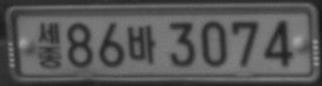0: (200, 20, 227, 66)
3: (169, 22, 195, 67)
4: (264, 20, 294, 66)
6: (98, 22, 125, 67)
7: (232, 20, 259, 66)
8: (66, 22, 93, 68)
바: (127, 24, 156, 65)
세종_V: (37, 22, 62, 69)
